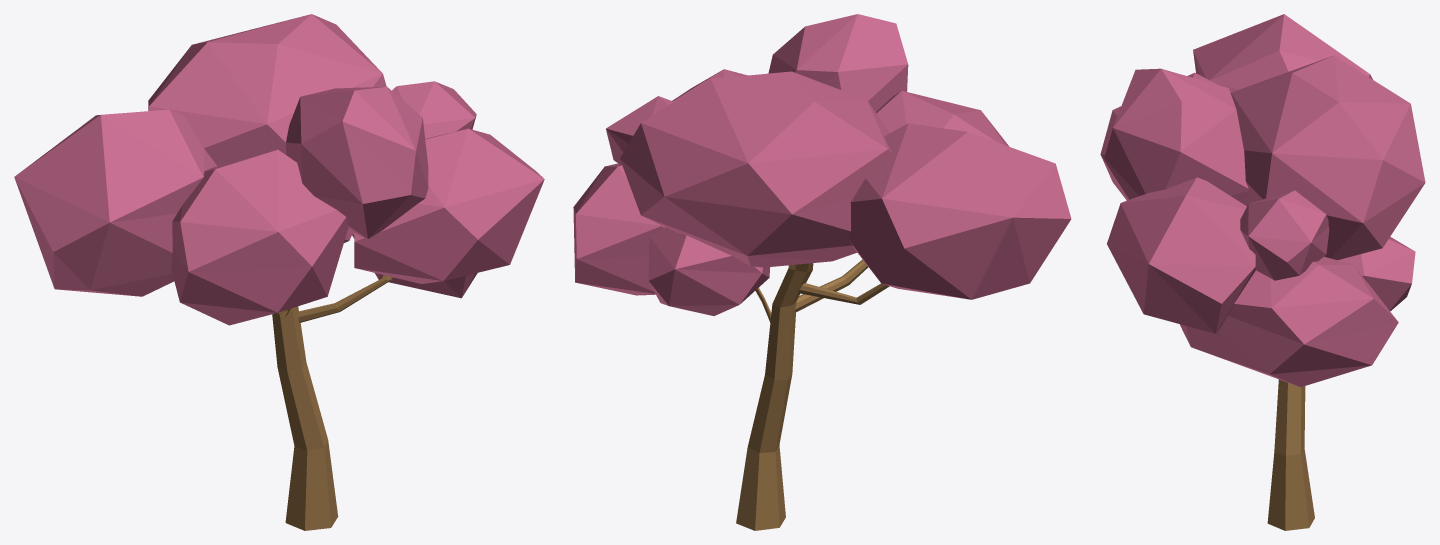
Rendered from Tree(sakura)_1.fbx.
3 renders of one model, left to right at view 1: azimuth 30°, elevation 25°; view 2: azimuth 150°, elevation 25°; view 3: azimuth 270°, elevation 25°, orthographic. The views are drawn at different scales.
Visible parts, largest first — view 1: Tree(sakura)_1; view 2: Tree(sakura)_1; view 3: Tree(sakura)_1.
Part boxes in pixels (left/top/right/bottom): Tree(sakura)_1: left=14, top=14, right=544, bottom=530; Tree(sakura)_1: left=573, top=14, right=1071, bottom=530; Tree(sakura)_1: left=1100, top=14, right=1425, bottom=530.
Size of the model in its own units: 347 by 335 by 225.
